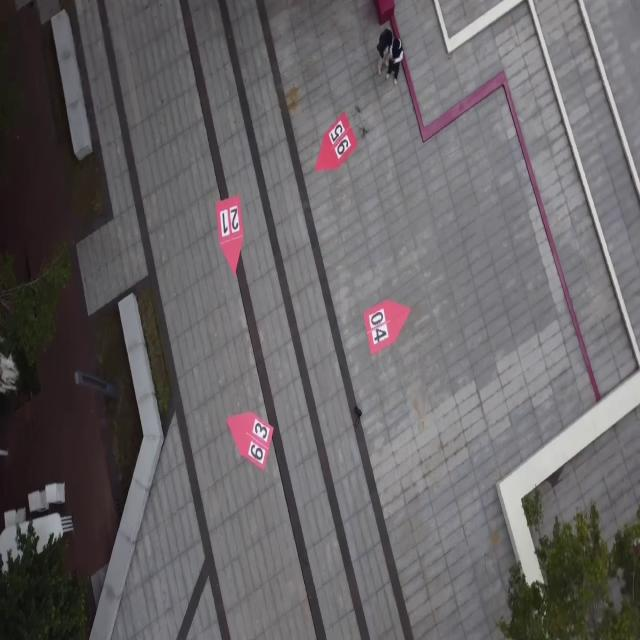-sign-: (228, 410, 274, 472), (314, 110, 358, 172), (363, 300, 409, 356), (216, 195, 244, 276)
